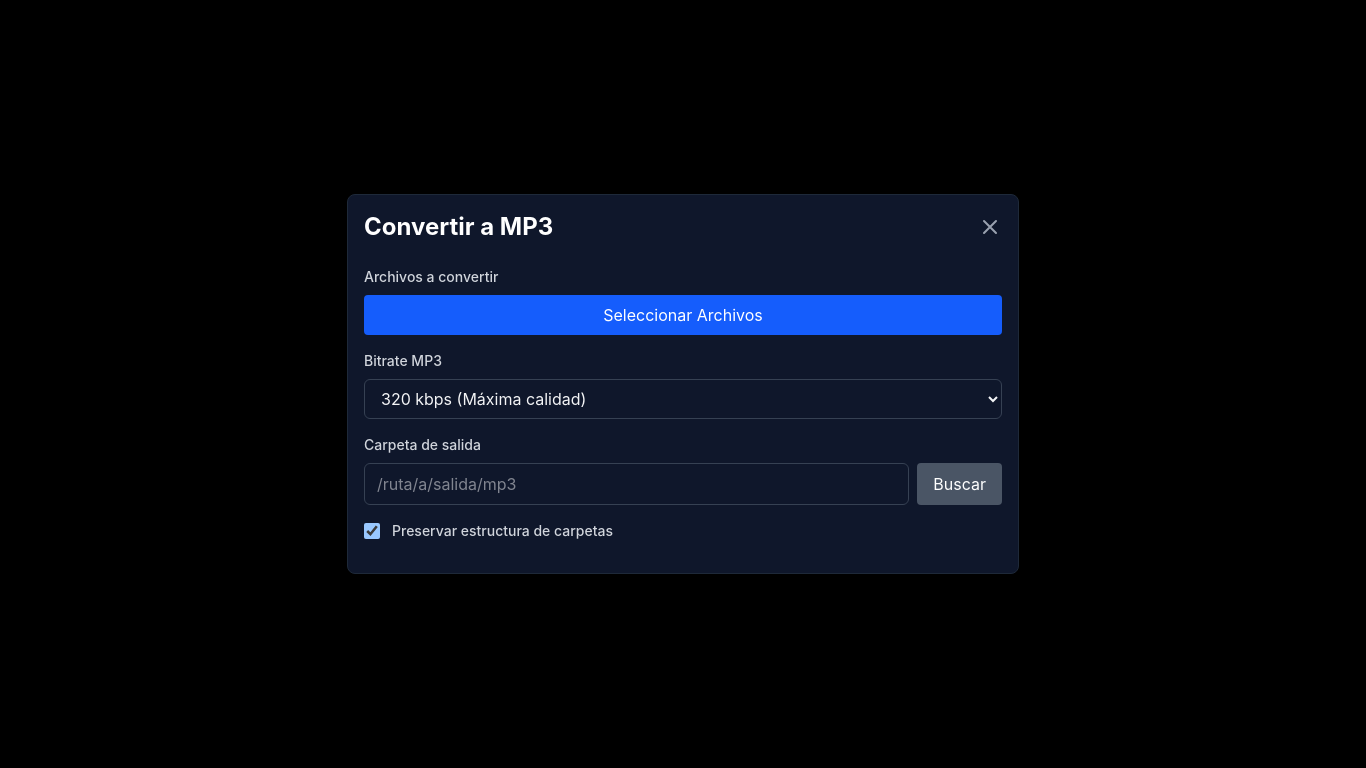
Test: ConversionDialog › Proceso de conversión › debería mostrar botón de convertir cuando hay archivos y carpeta
Step 1. Click the button "Seleccionar Archivos" → (683, 315), box [364,295,1002,335]
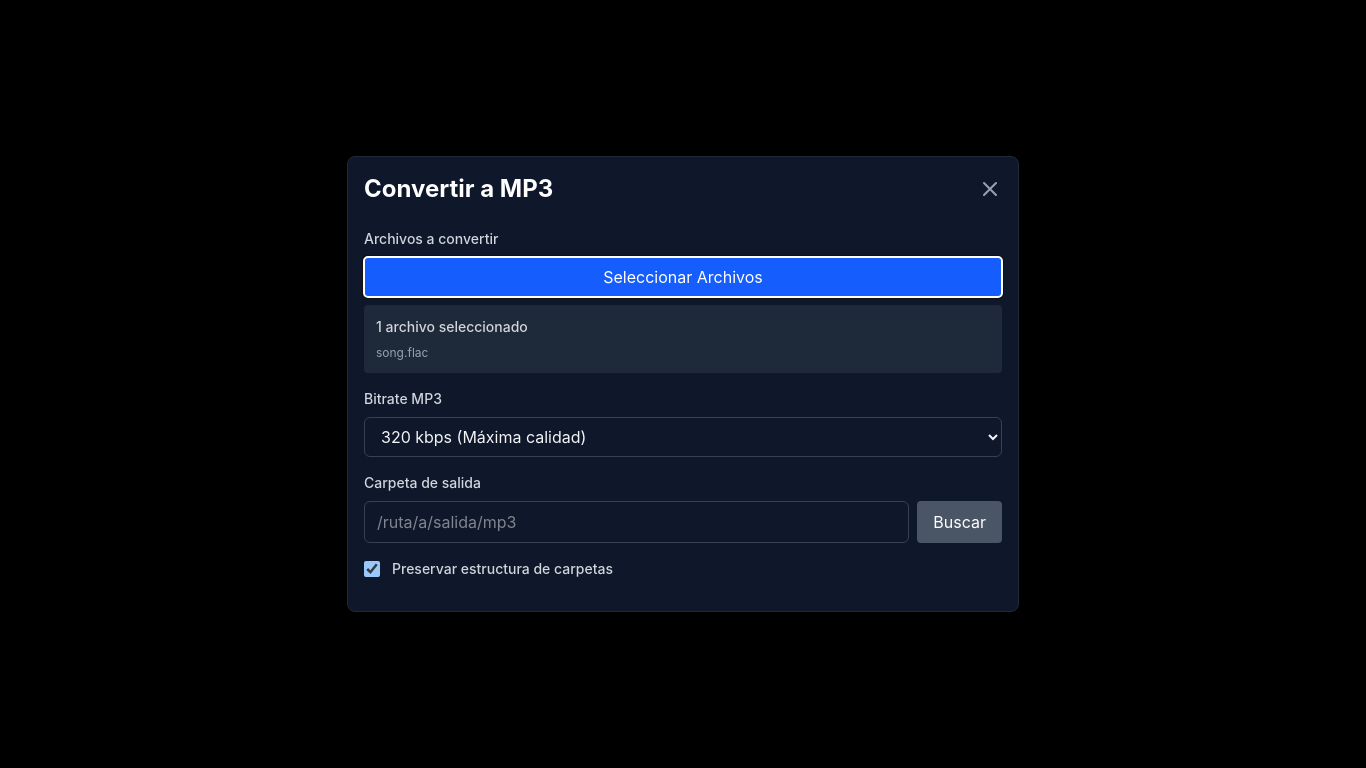
Now the text "song.flac" is shown, box [376,345,428,360]
Step 2. Type "/output" into the field labelled "Carpeta de salida" → (637, 522), box [364,501,909,543]
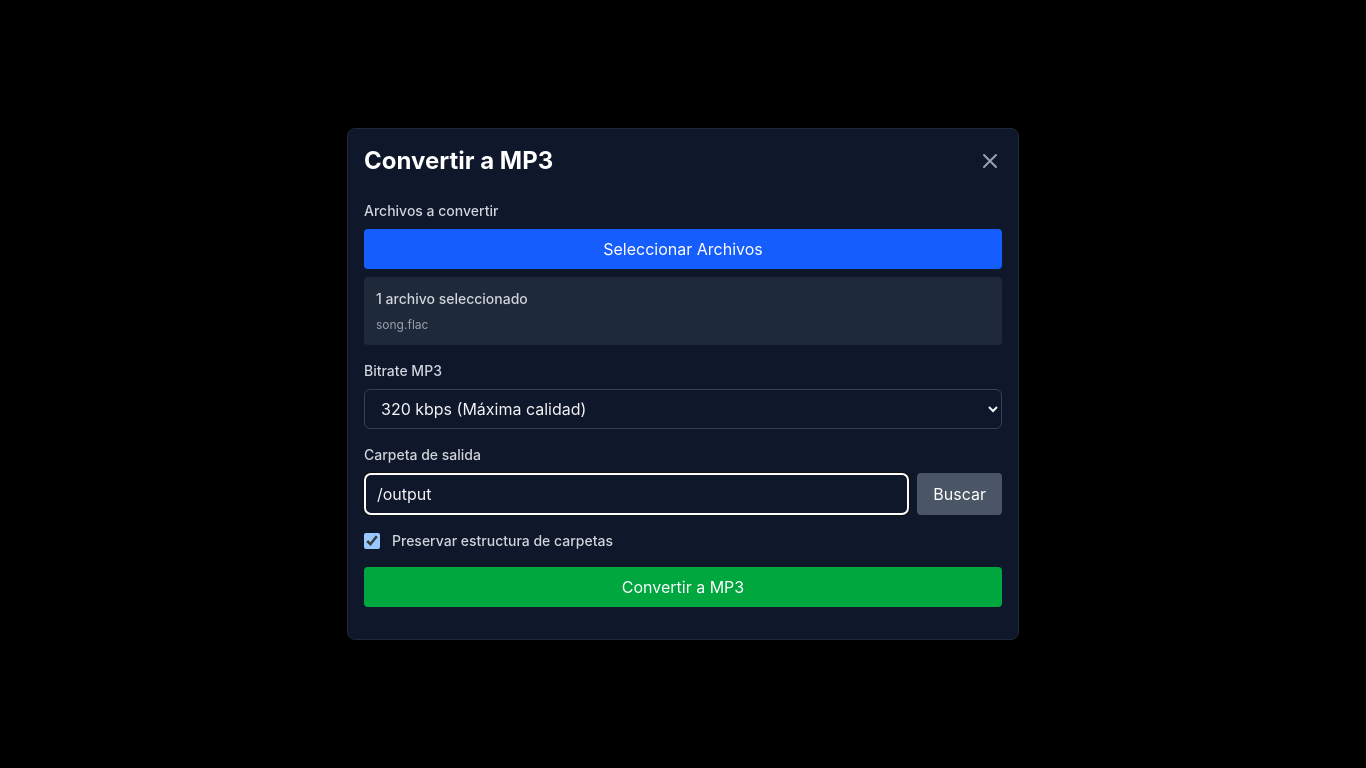
Now the button "Convertir a MP3" is shown, box [364,567,1002,607]
